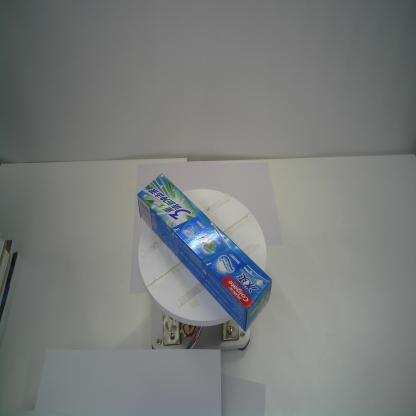Personal Hygiene: (138, 172, 272, 332)
